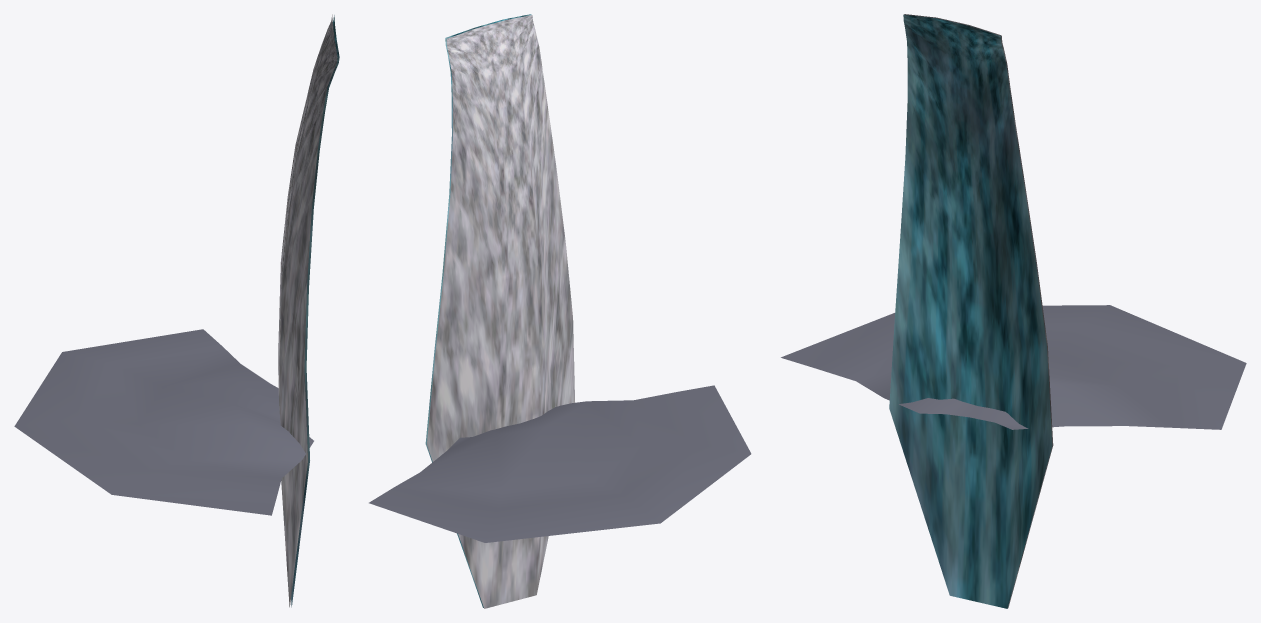
Rendered from EKH_GROTTO_PS_GR_WATERFALLS49487.fbx.
3 views of the same model, side by side, from view 1: azimuth 30°, elevation 25°; view 2: azimuth 150°, elevation 25°; view 3: azimuth 270°, elevation 25° (orthographic). The views are drawn at different scales.
Visible parts, largest first — view 1: EKH_GROTTO_PS_GR_WATERFALLS49487; view 2: EKH_GROTTO_PS_GR_WATERFALLS49487; view 3: EKH_GROTTO_PS_GR_WATERFALLS49487.
Boxes of the visible parts, <box> form: EKH_GROTTO_PS_GR_WATERFALLS49487: <box>14,14,339,607</box>; EKH_GROTTO_PS_GR_WATERFALLS49487: <box>369,14,751,608</box>; EKH_GROTTO_PS_GR_WATERFALLS49487: <box>781,14,1246,608</box>.
Bounding box in the file's own units: 95234 × 191437 × 135384.
Materials: 3 (3 with a texture image).
